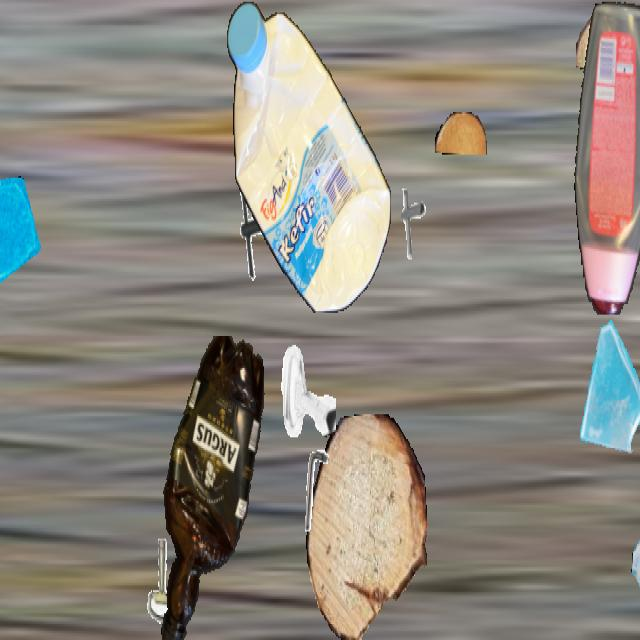glass: (569, 318, 640, 461), (0, 176, 44, 290), (631, 532, 640, 638)
metal: (229, 176, 289, 283), (278, 340, 336, 442), (137, 532, 193, 631), (291, 442, 345, 538), (389, 183, 433, 261), (633, 178, 640, 277)
plastic: (227, 2, 391, 311), (151, 336, 271, 638), (573, 2, 640, 314)
wood: (306, 414, 426, 638), (576, 16, 640, 73), (435, 112, 487, 155)
